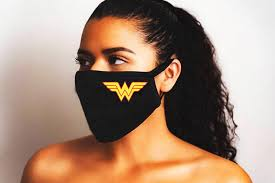with-mask: (75, 8, 181, 142)
